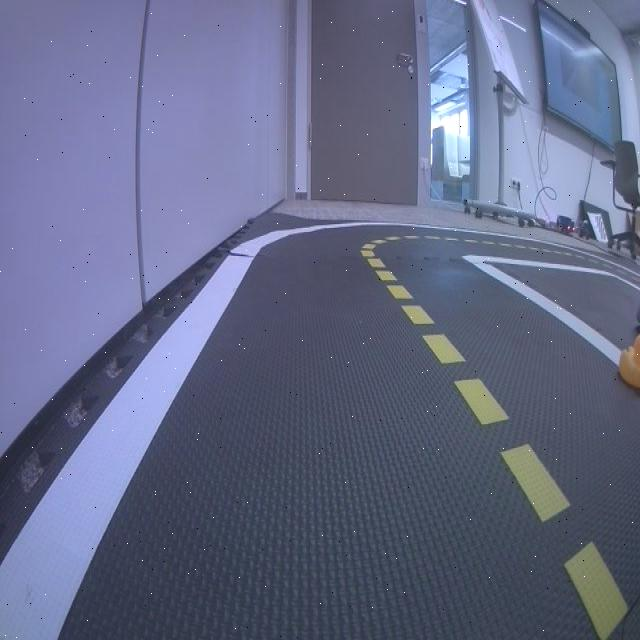duckie: (617, 334, 640, 390)
